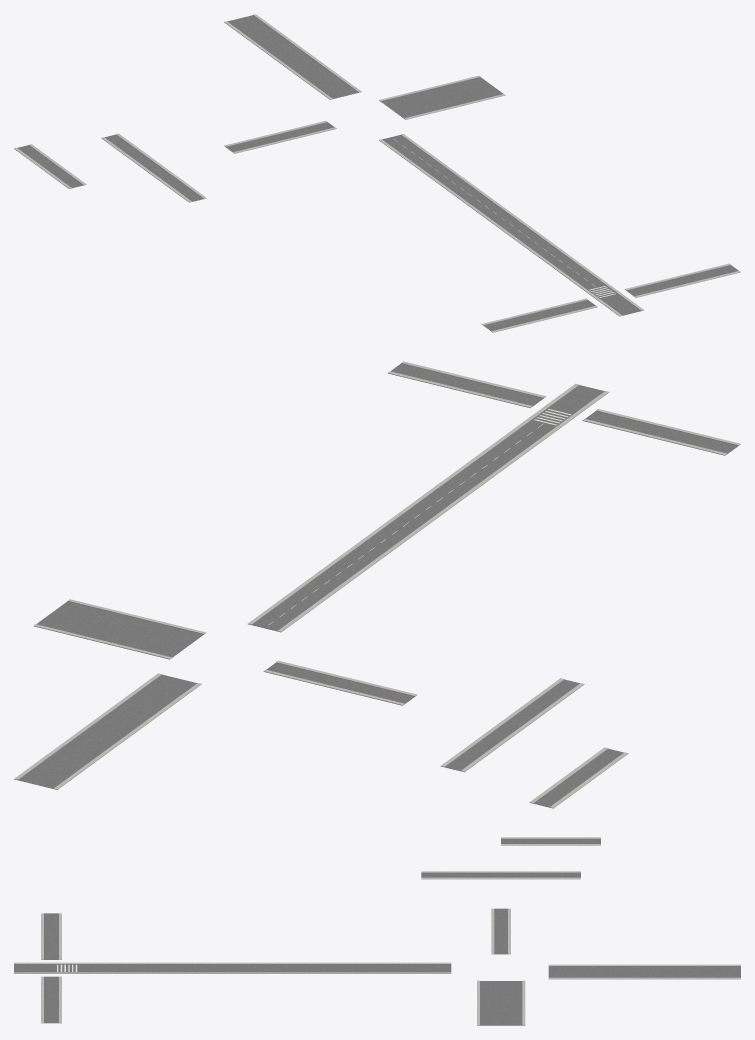
Rendered from jalan-raya-blender-v1.glb.
The picture shows the model from 3 angles, top to bottom: view 1: azimuth 30°, elevation 25°; view 2: azimuth 150°, elevation 25°; view 3: azimuth 270°, elevation 25°; orthographic projection. The views are drawn at different scales.
Visible parts, largest first — view 1: Roads, Sidewalks; view 2: Roads, Sidewalks; view 3: Roads, Sidewalks.
Part boxes in pixels (x1,y1,x2,y2): Roads: [17, 15, 738, 331]; Sidewalks: [14, 14, 740, 332]; Roads: [18, 363, 738, 807]; Sidewalks: [14, 361, 740, 808]; Roads: [14, 839, 740, 1025]; Sidewalks: [14, 837, 740, 1025].
Size of the model in its own units: 178 by 0.17 by 291.
3 materials, 2 textured.
